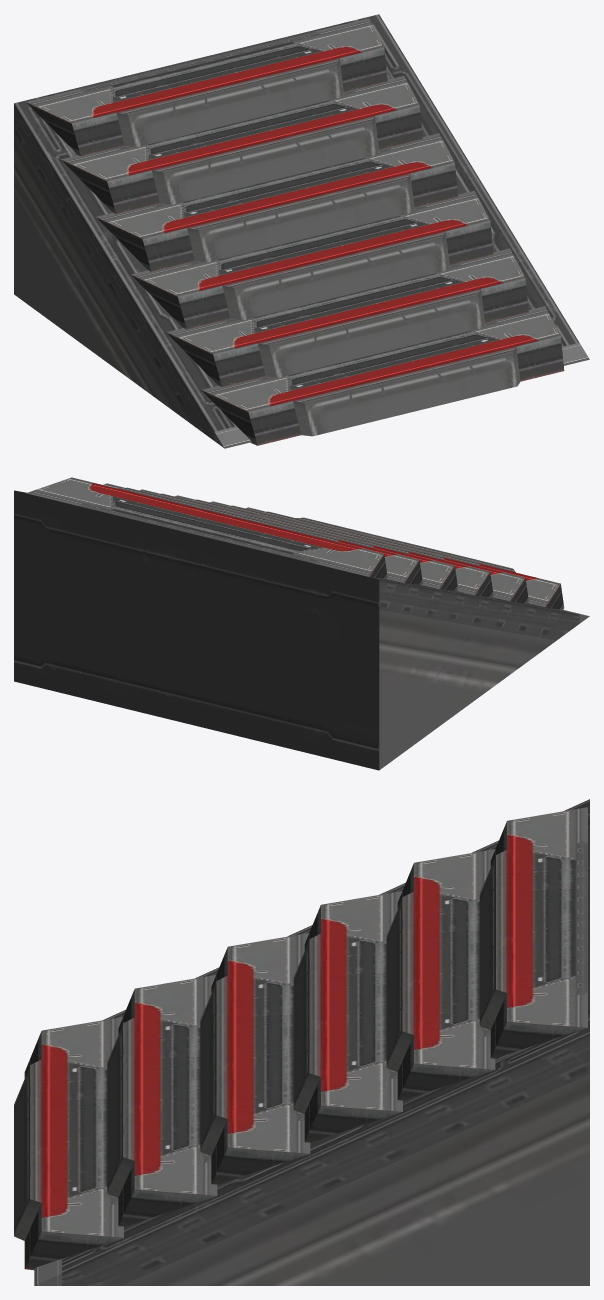
Rendered from fut-escada-metal.gltf.
3 renders of one model, top to bottom at view 1: azimuth 30°, elevation 25°; view 2: azimuth 150°, elevation 25°; view 3: azimuth 270°, elevation 25°, orthographic. The views are drawn at different scales.
Parts seen in each view (by area): view 1: Platform_Stairs_2; view 2: Platform_Stairs_2; view 3: Platform_Stairs_2.
Boxes of the visible parts, x1,y1,x2,y2 form: Platform_Stairs_2: [14, 14, 589, 448]; Platform_Stairs_2: [14, 477, 589, 770]; Platform_Stairs_2: [14, 799, 589, 1285].
Size of the model in its own units: 1 by 0.5043 by 1.04.
2 materials, 2 textured.
